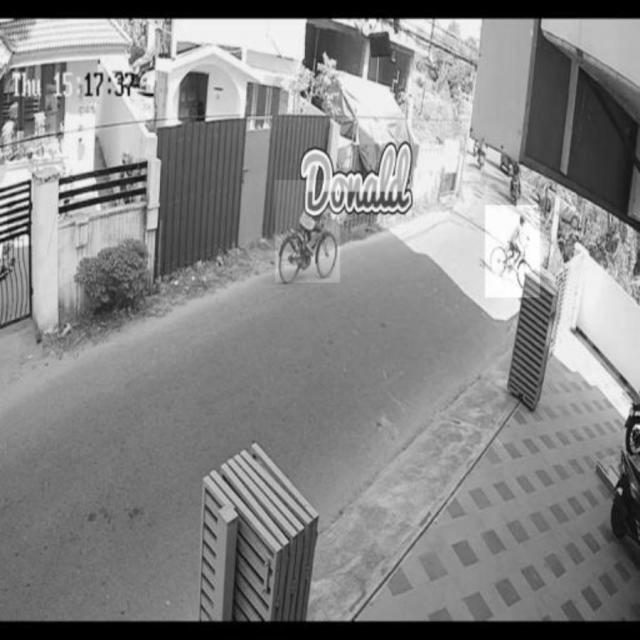vehicle: (275, 180, 339, 282), (485, 205, 540, 297)
